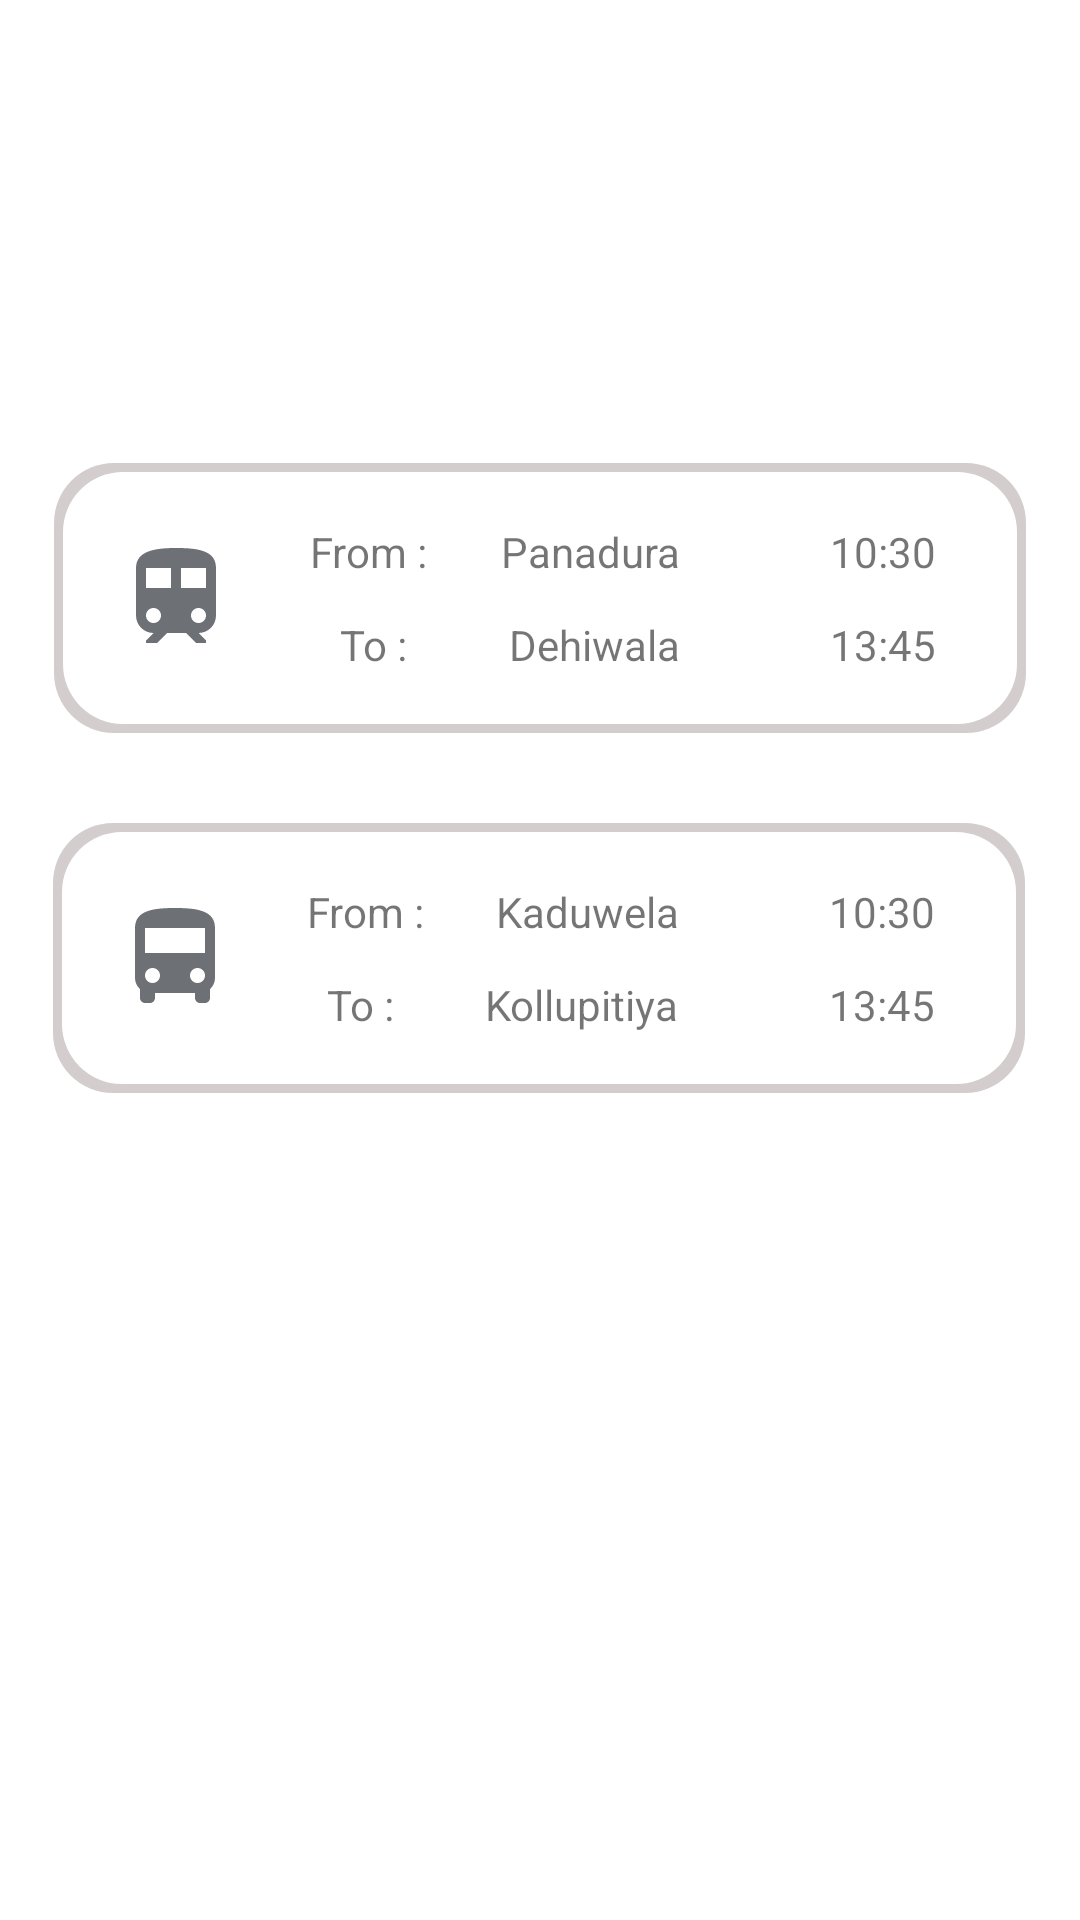

Icons on this 1080*1920 Android screen, each with the point to tap as (x,y):
bus: (175,955)
train: (176,595)
